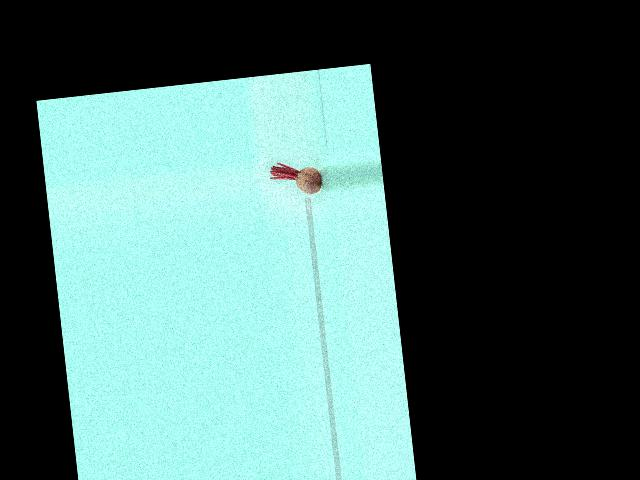beet: (268, 158, 323, 198)
